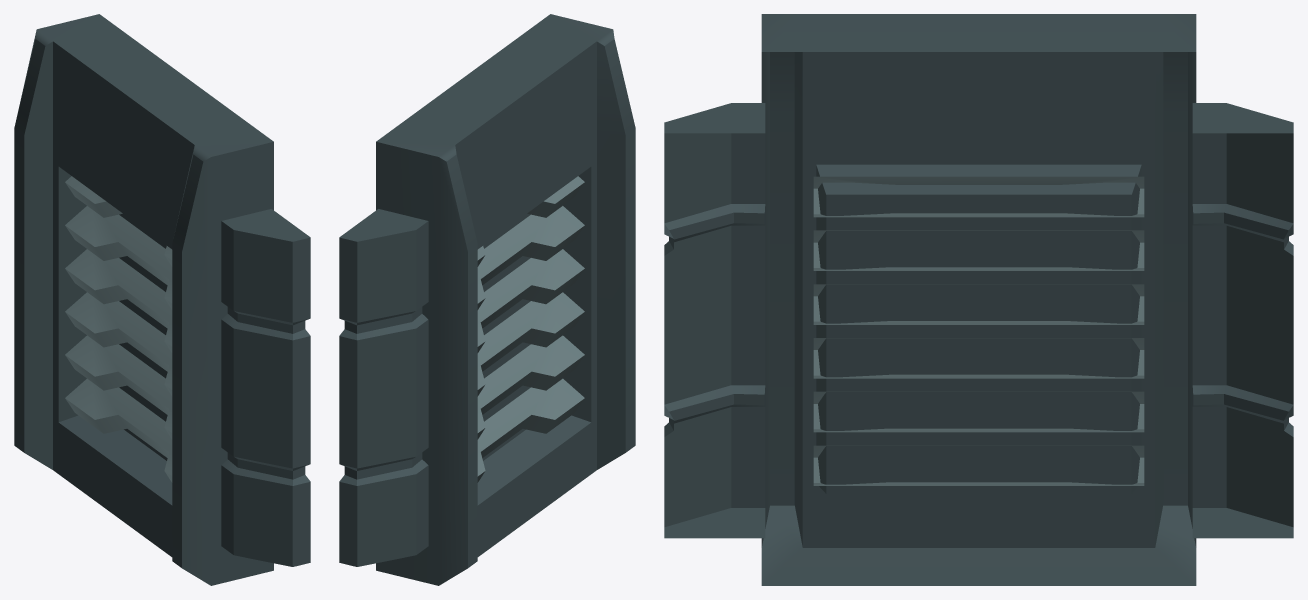
The model's file is SM_Vent.fbx.
The picture shows the model from 3 angles, left to right: view 1: azimuth 30°, elevation 25°; view 2: azimuth 150°, elevation 25°; view 3: azimuth 270°, elevation 25°; orthographic projection. The views are drawn at different scales.
Visible parts, largest first — view 1: SM_Vent; view 2: SM_Vent; view 3: SM_Vent.
Boxes of the visible parts, x1,y1,x2,y2 form: SM_Vent: [14, 14, 310, 585]; SM_Vent: [339, 14, 635, 585]; SM_Vent: [664, 14, 1293, 585].
Bounding box in the file's own units: 44.36 × 205 × 219.
Materials: 1 (1 with a texture image).
